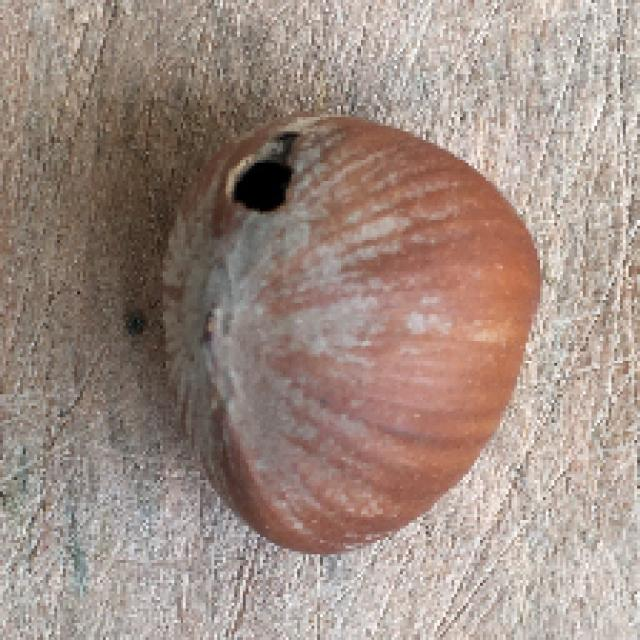damagedHazelnut: (145, 115, 542, 552)
